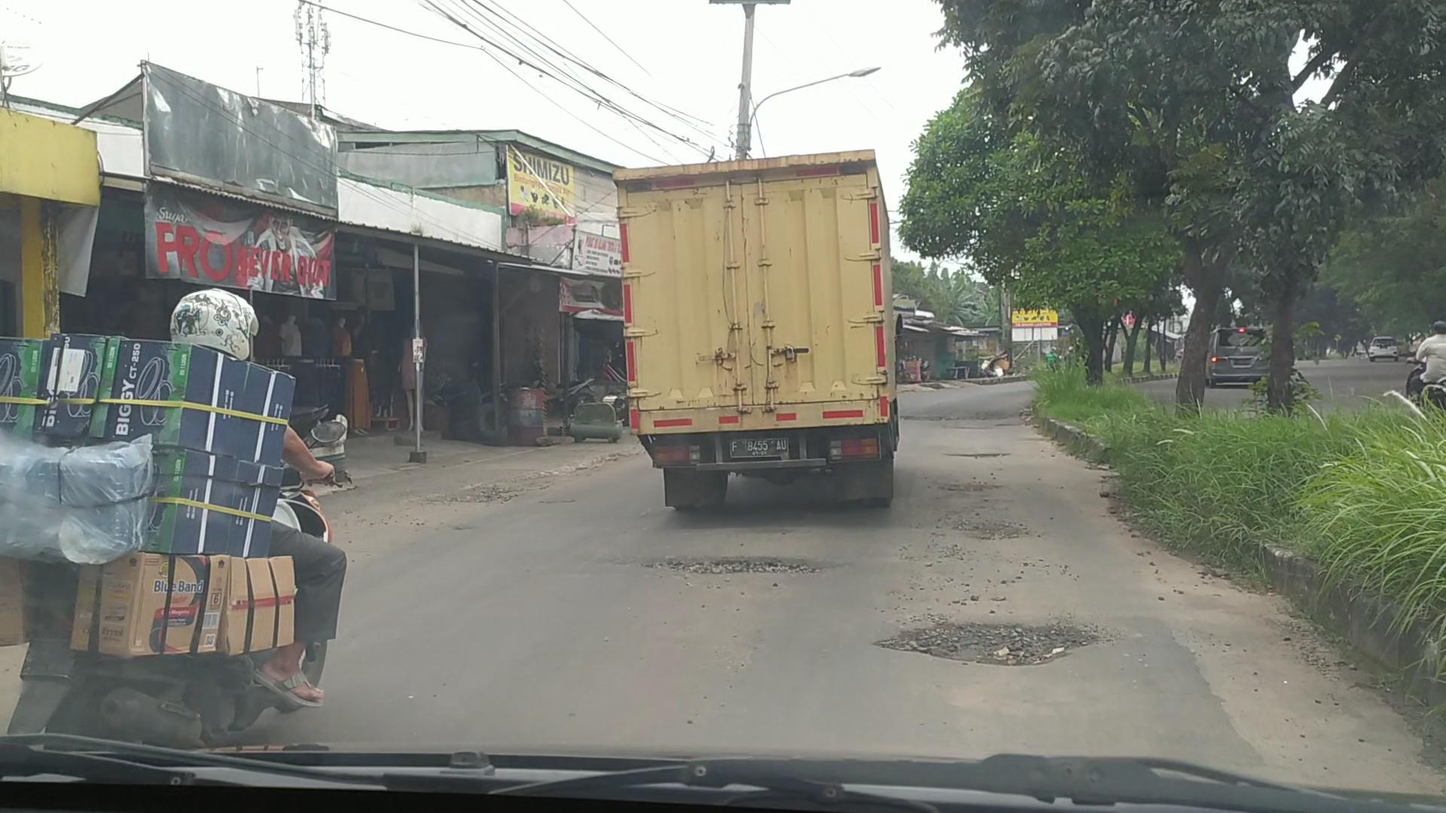pothole: (882, 623, 1093, 672), (647, 554, 821, 577), (960, 514, 1023, 541)
